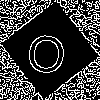O: (25, 25, 69, 75)
